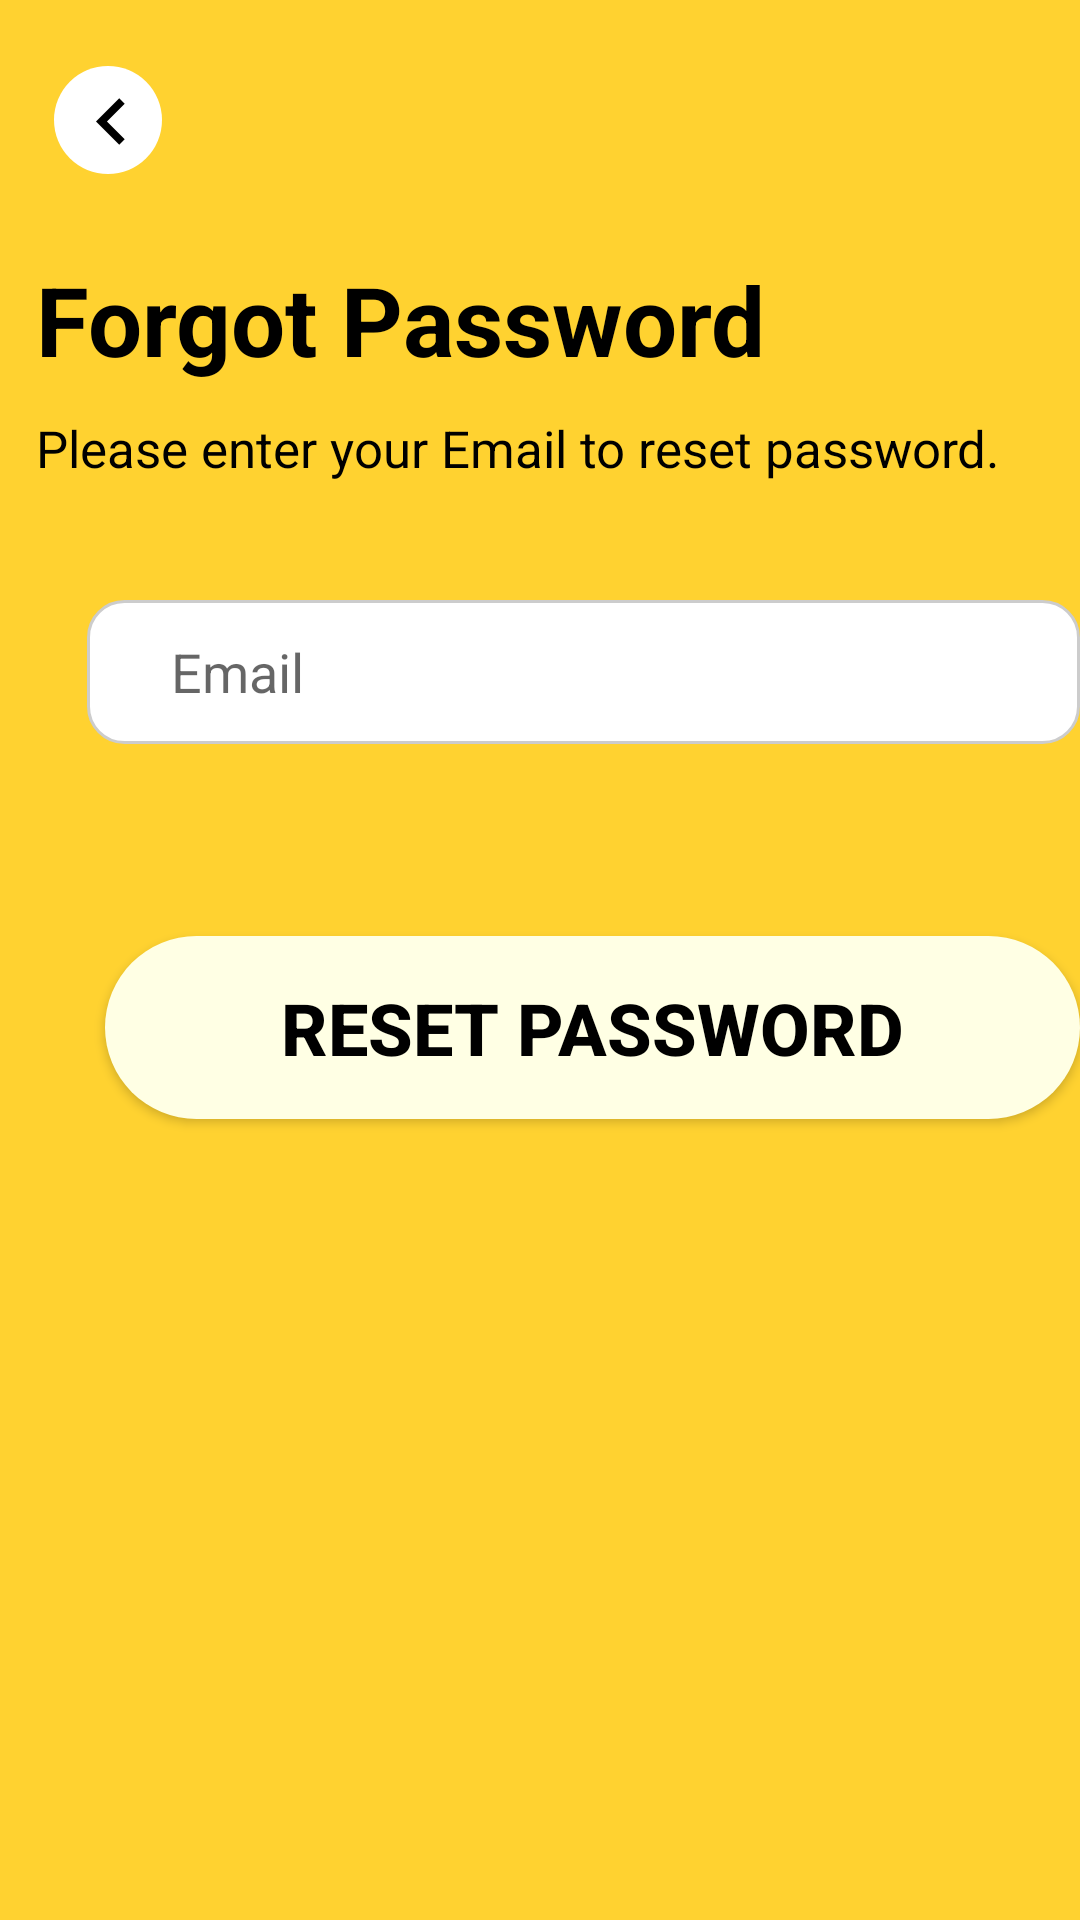

Locate icon controls on the screen. Image size 1080*1920, boxes as box(x1, y1, x2, y2).
arrow: box(54, 75, 162, 168)
